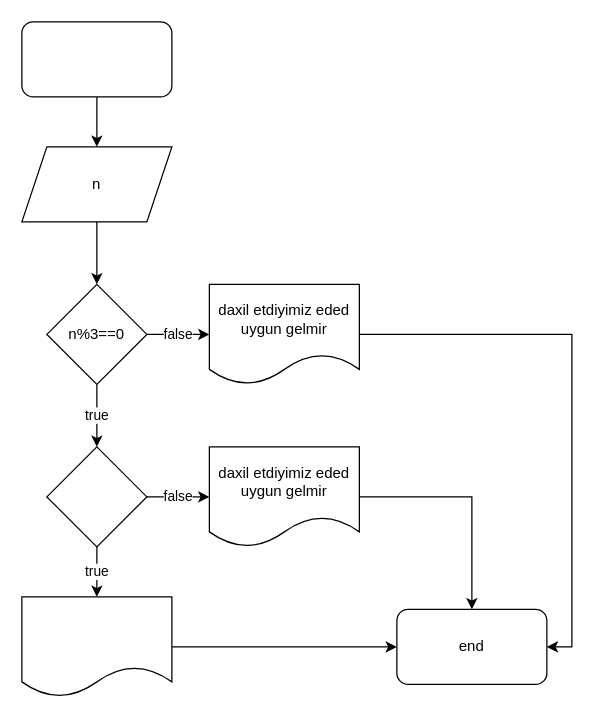
This 604x719 diagram has some shape labels left out. The centre of each missing label's shape, as x and y in pixels:
"axtardigimiz eded tapildi" goes at point (96, 646).
"n%7==0" goes at point (96, 496).
"start" goes at point (96, 59).
